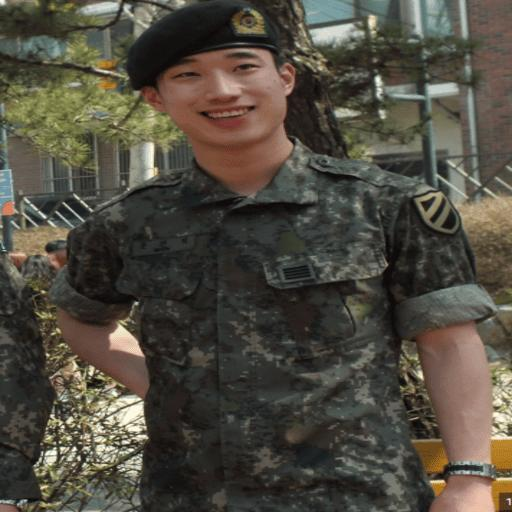korea army: (47, 0, 499, 510)
